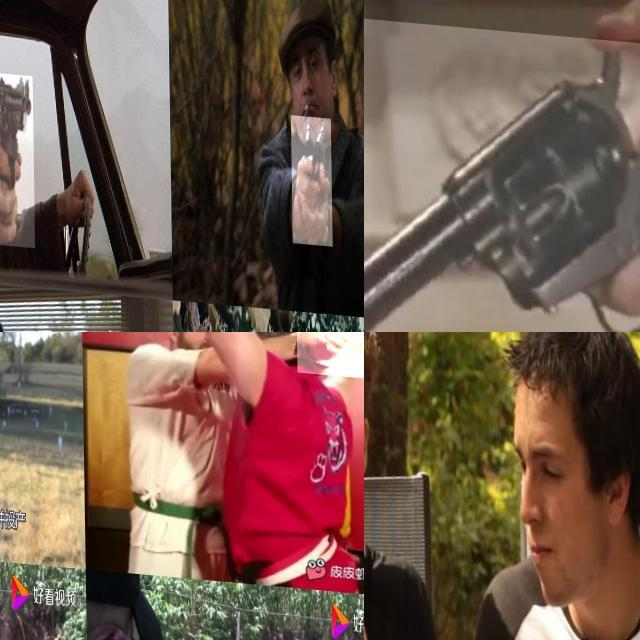-: (364, 536, 403, 640)
gun-knife-thesis - v11 Yolov5 augmented: (364, 3, 640, 332), (0, 68, 34, 244), (291, 107, 332, 238), (296, 332, 364, 384), (0, 332, 34, 407)
